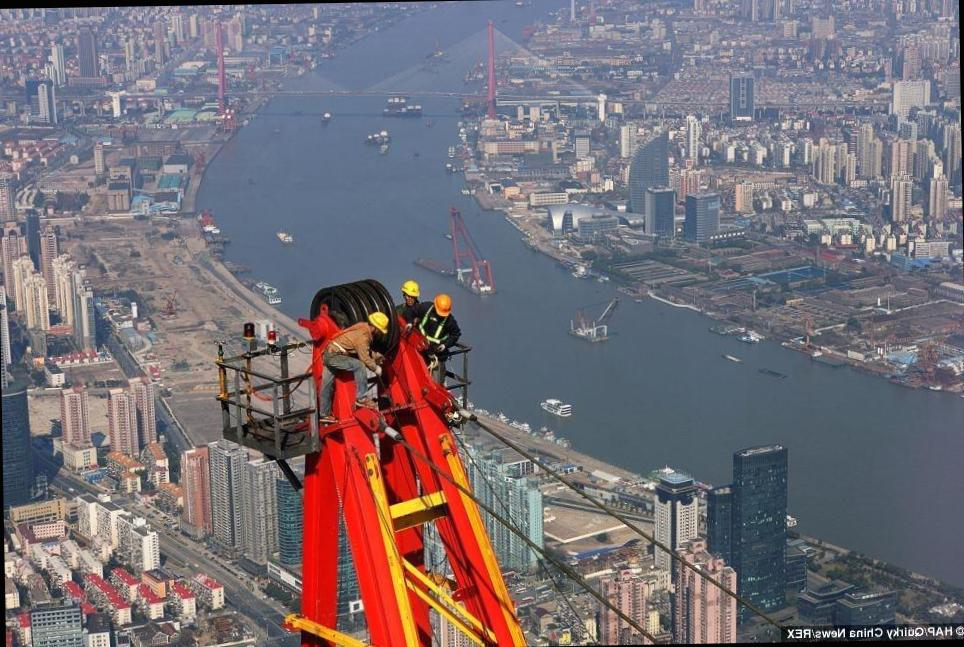helmet: (430, 294, 454, 318), (368, 310, 390, 336), (401, 275, 420, 298)
person: (314, 308, 392, 431), (414, 293, 464, 388)
